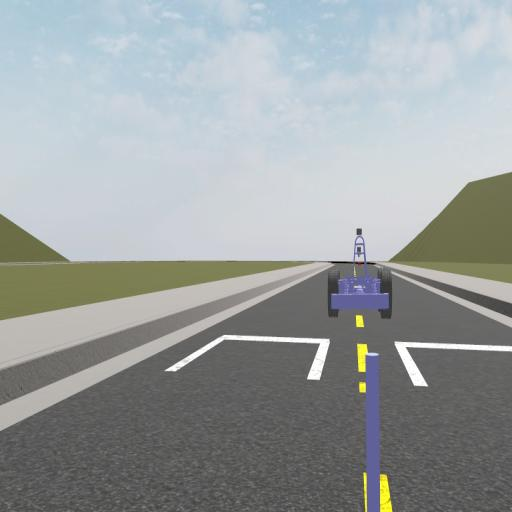ERP-42: (329, 228, 391, 318)
